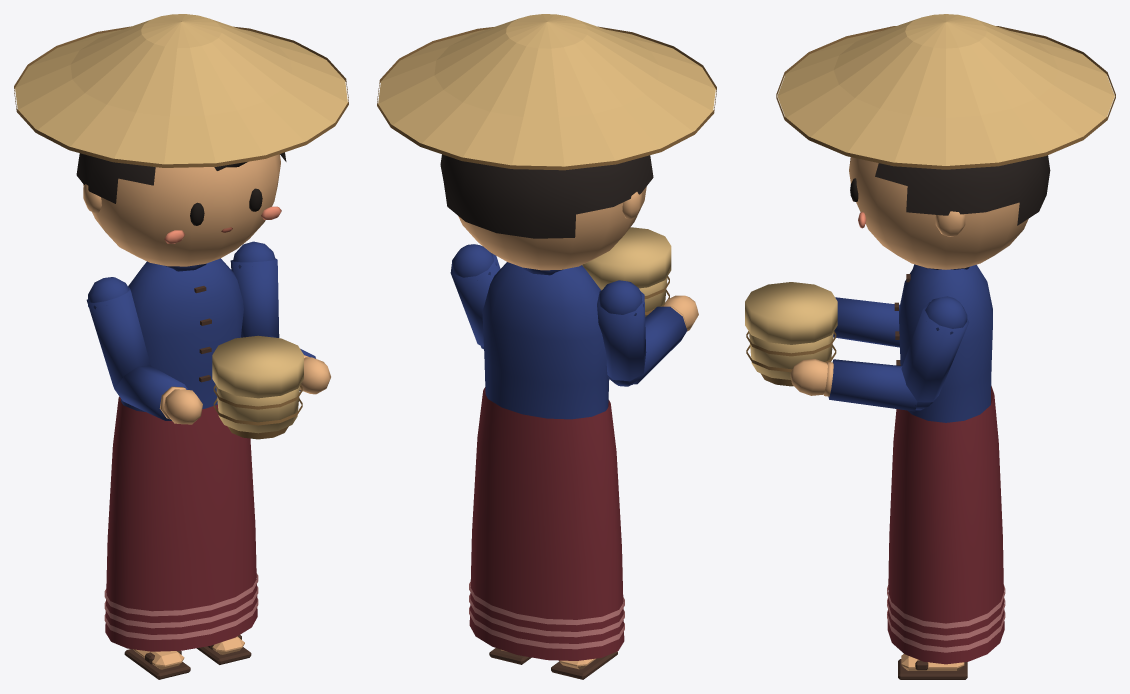
The model's file is isan_sticky_rice_woman.glb.
3 renders of one model, left to right at view 1: azimuth 30°, elevation 25°; view 2: azimuth 150°, elevation 25°; view 3: azimuth 270°, elevation 25°, orthographic.
Parts seen in each view (by area): view 1: head, body, prop_kratip, arm_R, arm_L, forearm_R, shin_R, forearm_L, shin_L; view 2: head, body, prop_kratip, arm_R, arm_L, forearm_R, shin_R; view 3: head, body, prop_kratip, forearm_L, arm_L, forearm_R, shin_L.
Boxes of the visible parts, <box> form: head: <box>14,14,348,266</box>; body: <box>104,258,258,651</box>; prop_kratip: <box>212,335,303,439</box>; arm_R: <box>86,277,150,394</box>; arm_L: <box>230,241,279,337</box>; forearm_R: <box>114,365,202,424</box>; shin_R: <box>124,649,190,679</box>; forearm_L: <box>264,334,330,394</box>; shin_L: <box>197,635,251,664</box>; head: <box>377,14,716,270</box>; body: <box>469,262,624,660</box>; prop_kratip: <box>582,227,671,316</box>; arm_R: <box>597,280,646,386</box>; arm_L: <box>450,244,500,349</box>; forearm_R: <box>607,295,698,384</box>; shin_R: <box>551,651,617,679</box>; head: <box>776,14,1115,269</box>; body: <box>887,264,1005,664</box>; prop_kratip: <box>745,282,837,386</box>; forearm_L: <box>790,359,932,411</box>; arm_L: <box>901,296,969,410</box>; forearm_R: <box>833,297,899,347</box>; shin_L: <box>898,654,967,679</box>.
Bounding box in the file's own units: 0.7702 × 1.59 × 0.841.
